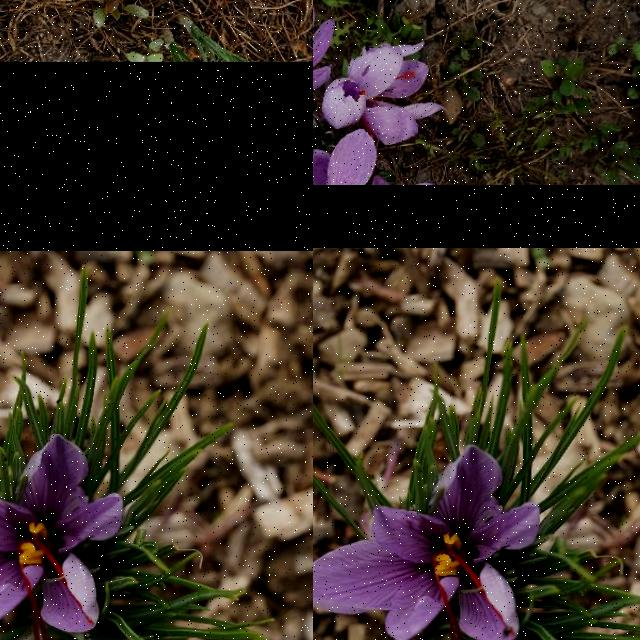flower: (313, 445, 540, 640), (0, 434, 123, 640), (313, 128, 420, 185), (321, 78, 367, 130)
overlap: (313, 0, 448, 185)
